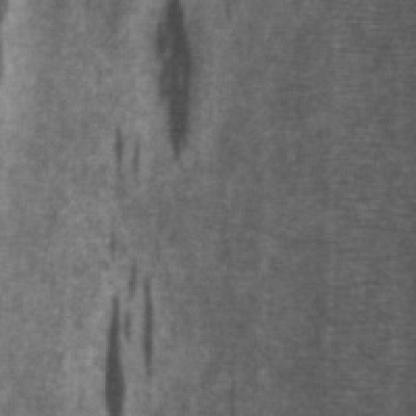inclusion: (92, 114, 156, 410), (148, 0, 198, 160)
